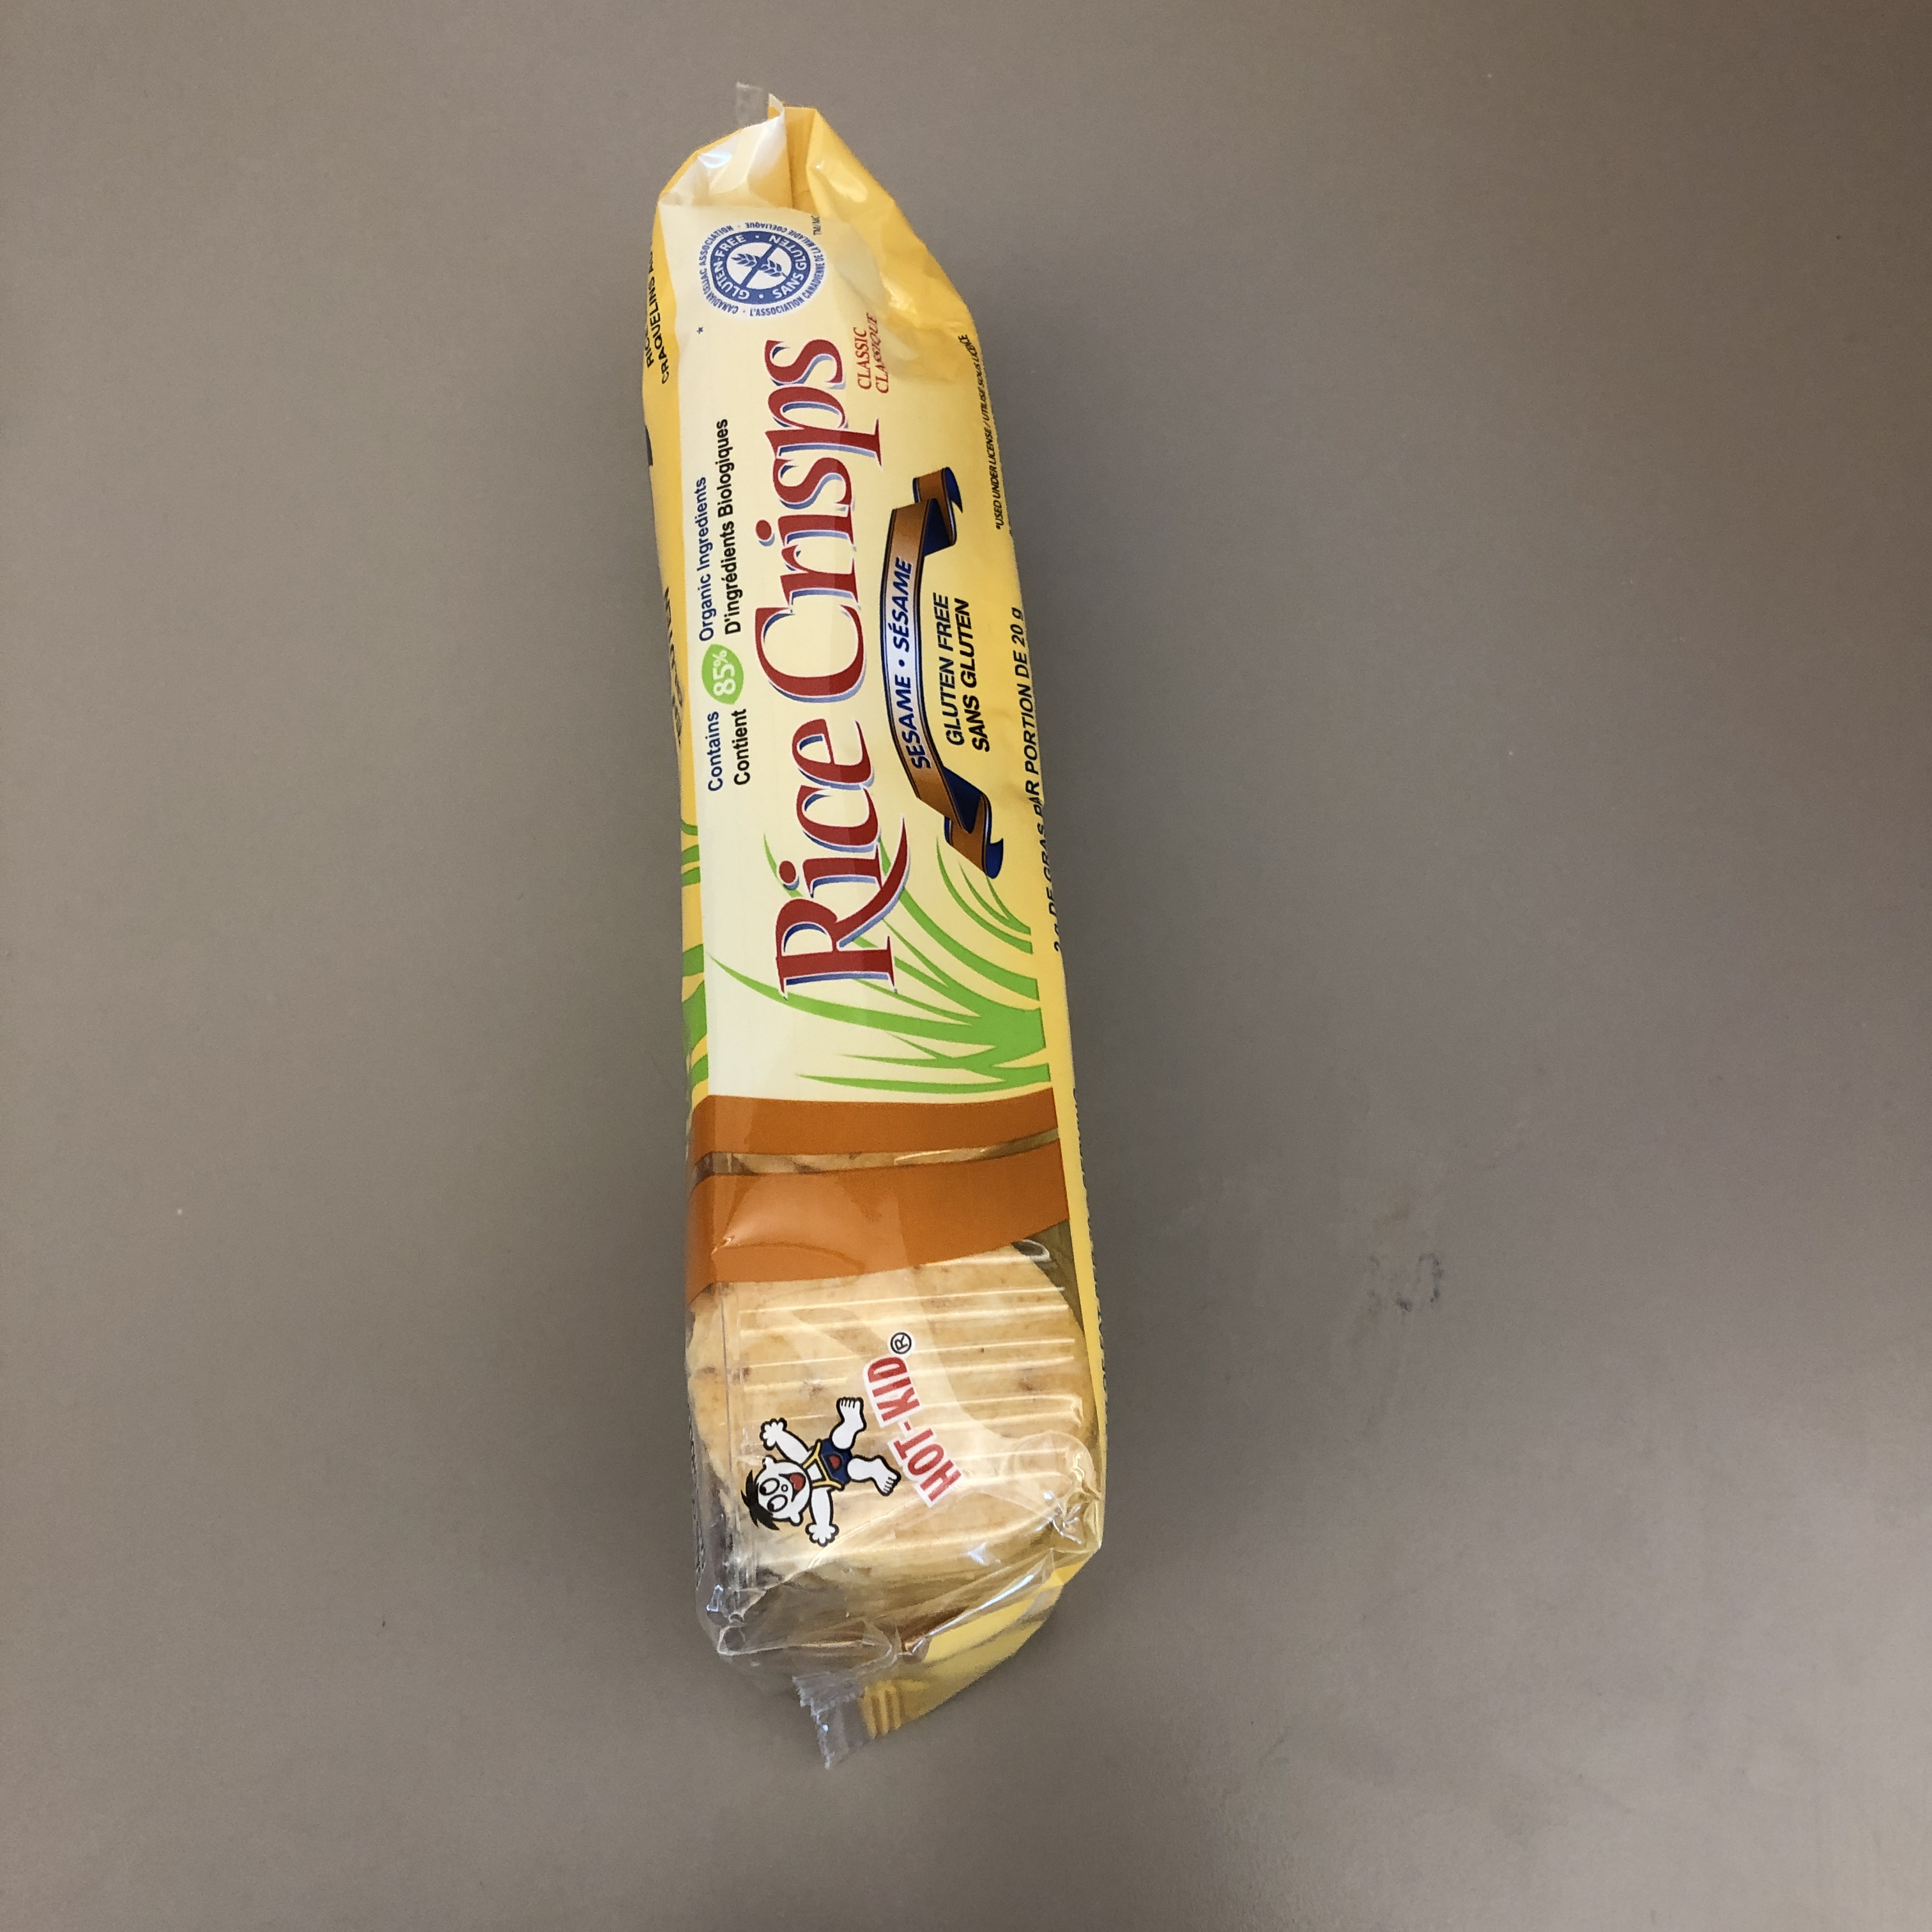hot_kid_rice_crisps_sesame: (167, 868, 1653, 1231)
